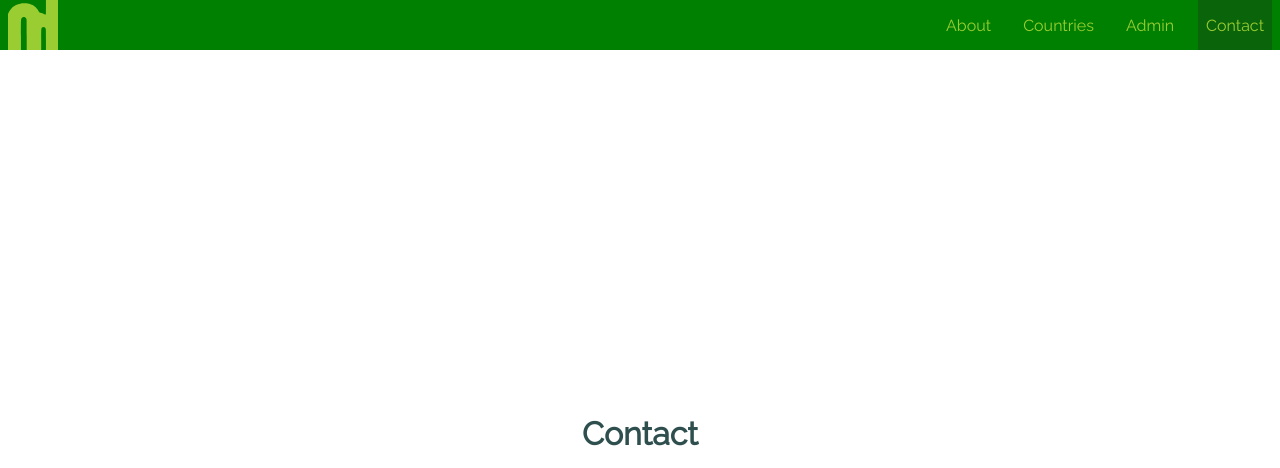
Test: App navigation › clicking on the home link should go to the home page
This screenshot has width=1280, height=468.
Click the link named "Home".
click(33, 25)  # box [8,0,58,50]
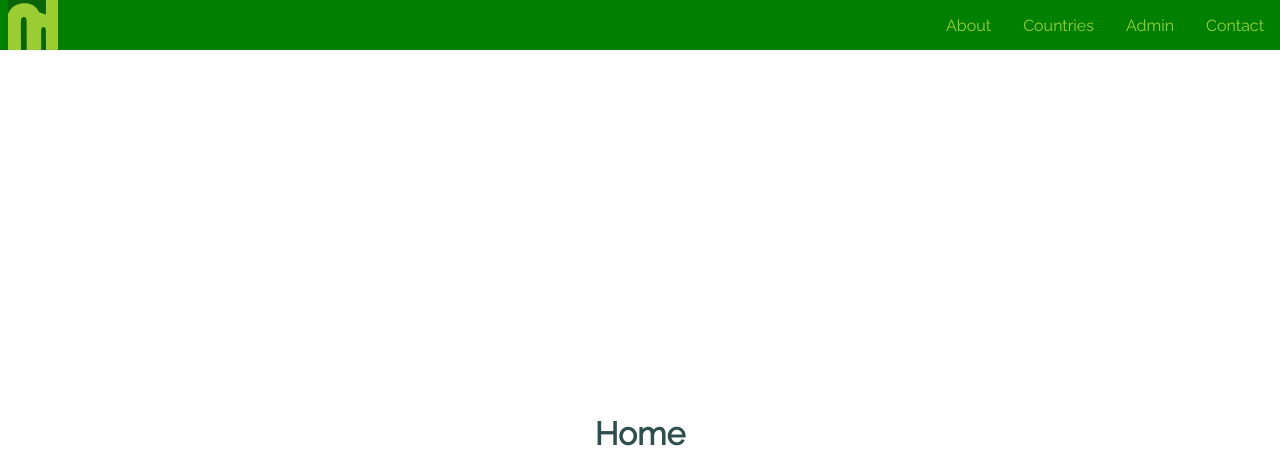
Check: the heading "Home" is shown, box [595,414,685,452]
